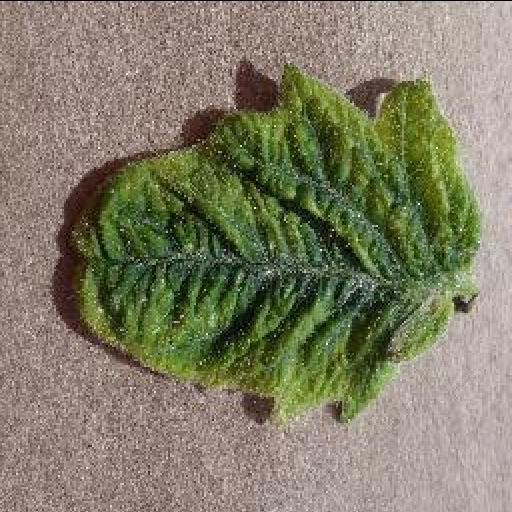disease_tomato: (66, 64, 486, 426)
